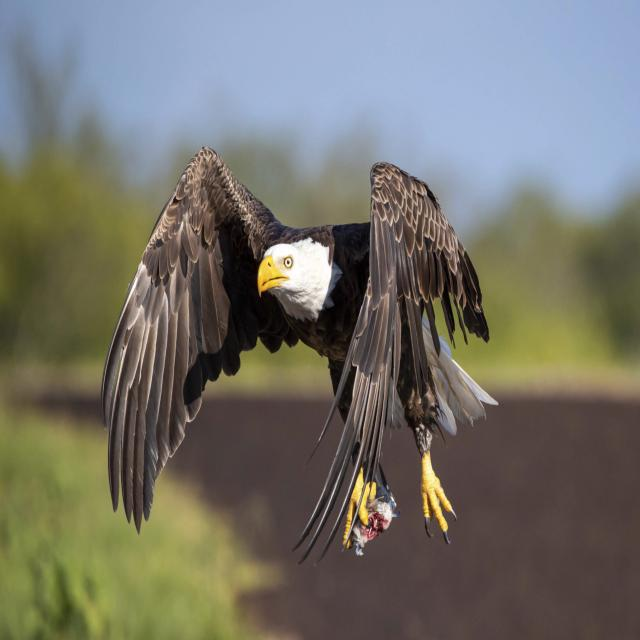Eagle: (90, 143, 492, 568)
